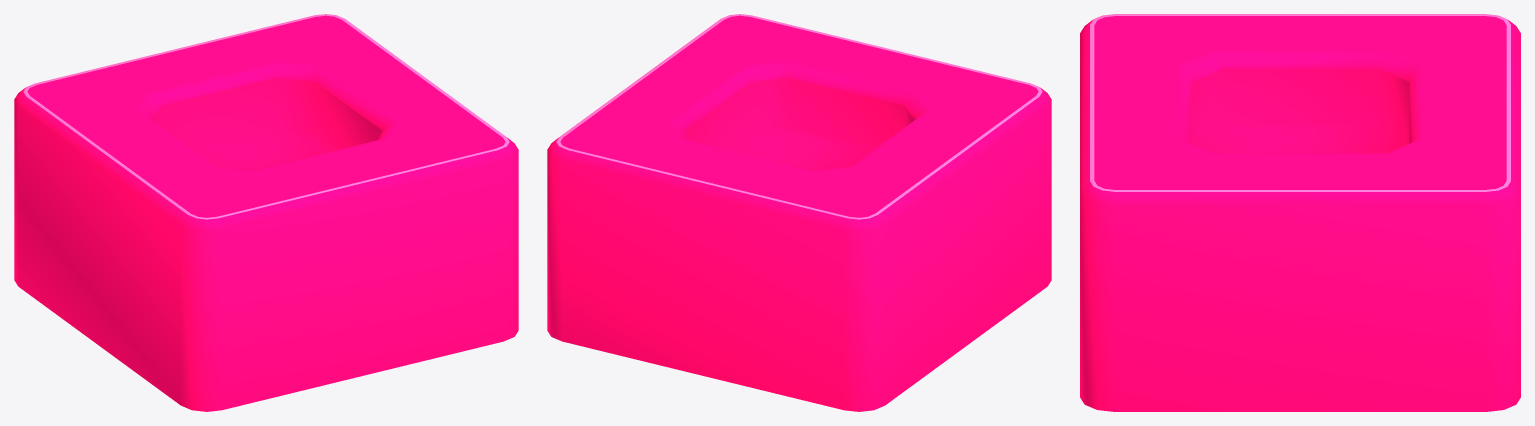
Rendered from cell_red.glb.
The picture shows the model from 3 angles, left to right: view 1: azimuth 30°, elevation 25°; view 2: azimuth 150°, elevation 25°; view 3: azimuth 270°, elevation 25°; orthographic projection. The views are drawn at different scales.
Visible parts, largest first — view 1: cell_red; view 2: cell_red; view 3: cell_red.
Boxes of the visible parts, x1,y1,x2,y2 form: cell_red: (14, 14, 518, 411); cell_red: (547, 14, 1051, 411); cell_red: (1080, 14, 1520, 411).
Size of the model in its own units: 1 by 0.54 by 1.
1 material, 1 textured.
